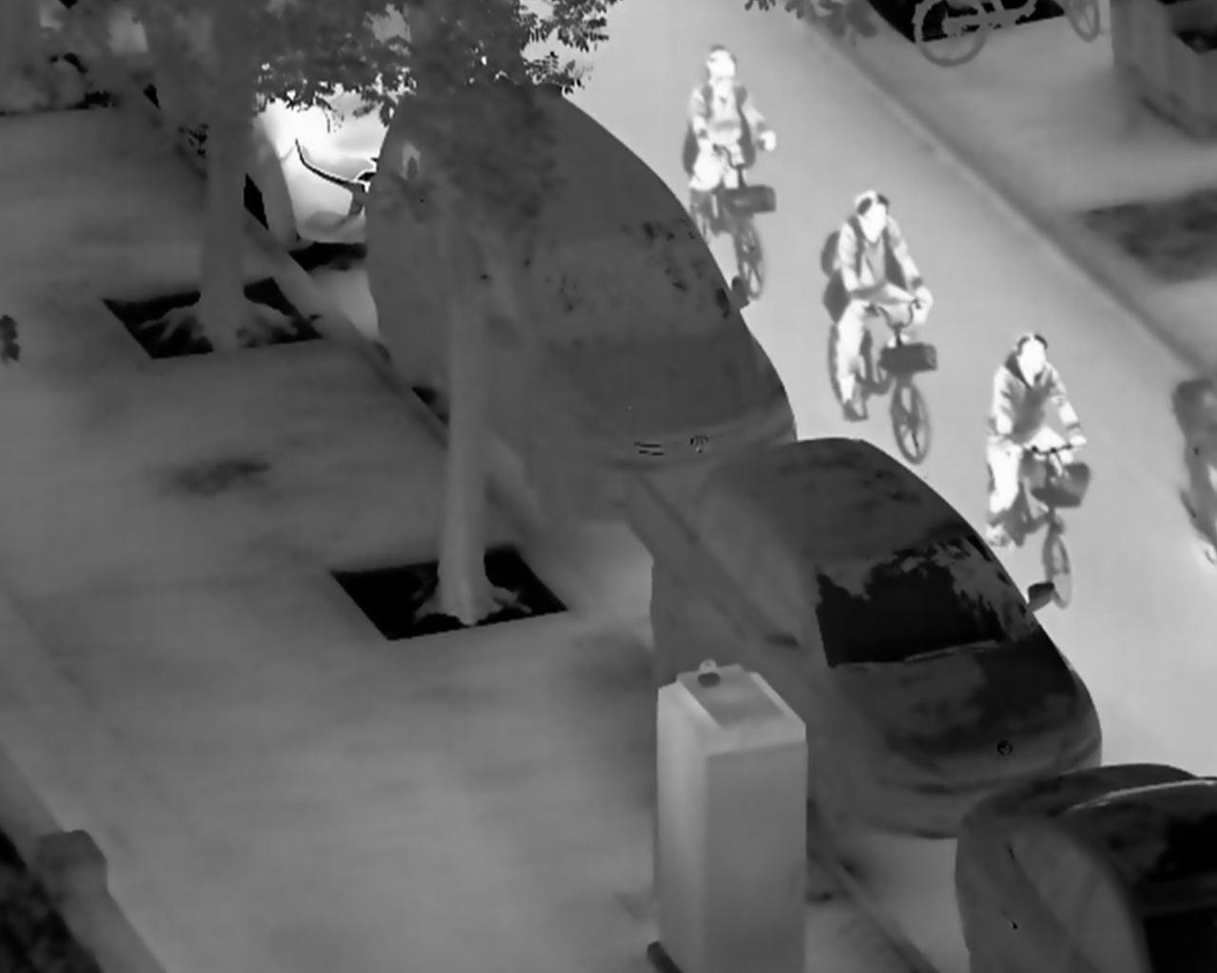person: (820, 188, 936, 423), (983, 334, 1088, 550), (683, 47, 777, 236)
